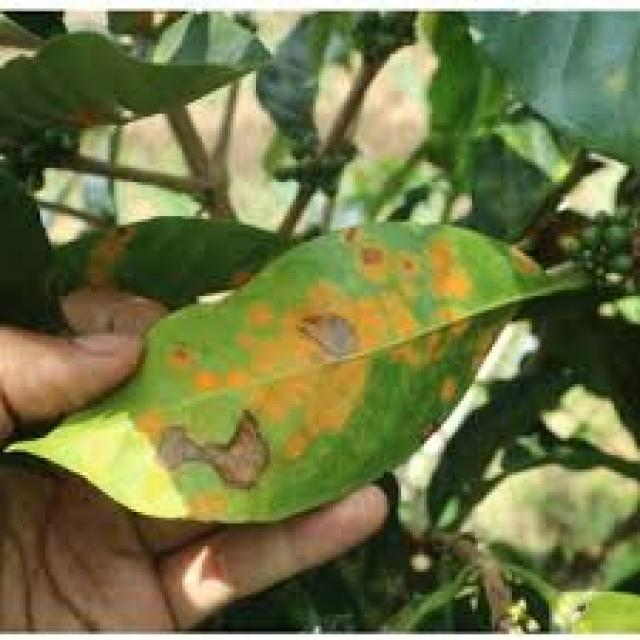leaf_rust: (11, 222, 580, 518)
